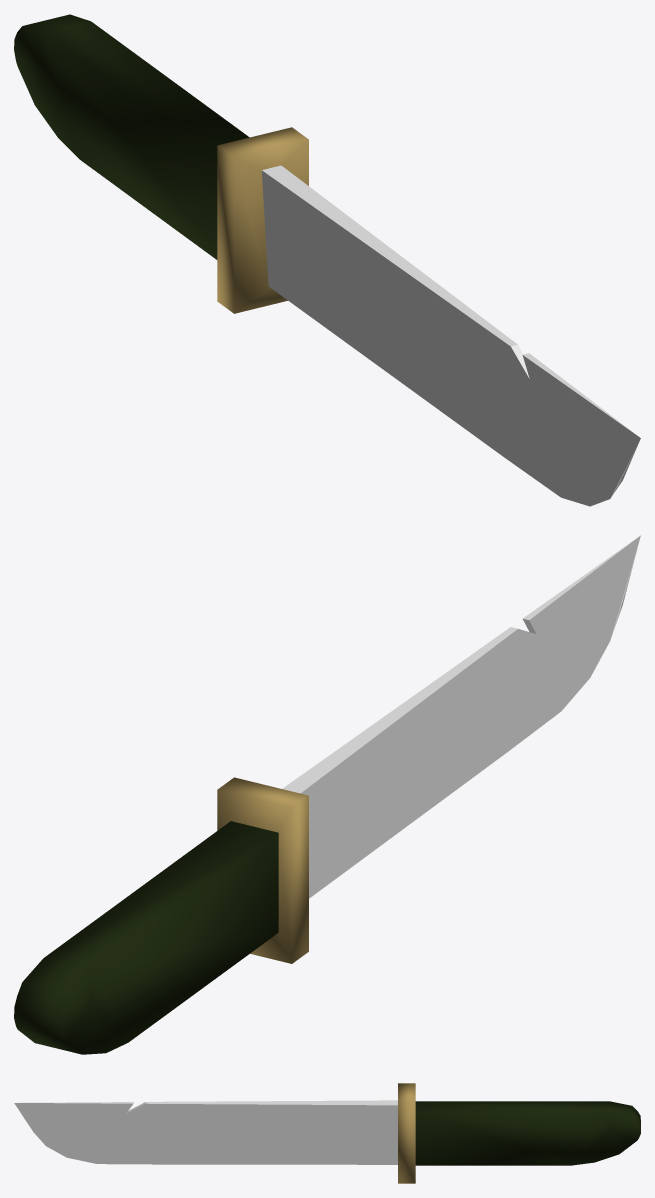
File: Knife.fbx
3 views of the same model, one above another, from view 1: azimuth 30°, elevation 25°; view 2: azimuth 150°, elevation 25°; view 3: azimuth 270°, elevation 25° (orthographic). The views are drawn at different scales.
Visible parts, largest first — view 1: Knife; view 2: Knife; view 3: Knife.
Part boxes in pixels (left/top/right/bottom): Knife: left=14, top=14, right=640, bottom=506; Knife: left=14, top=535, right=640, bottom=1054; Knife: left=14, top=1083, right=640, bottom=1183.
Size of the model in its own units: 1.91 by 3.81 by 26.67.
